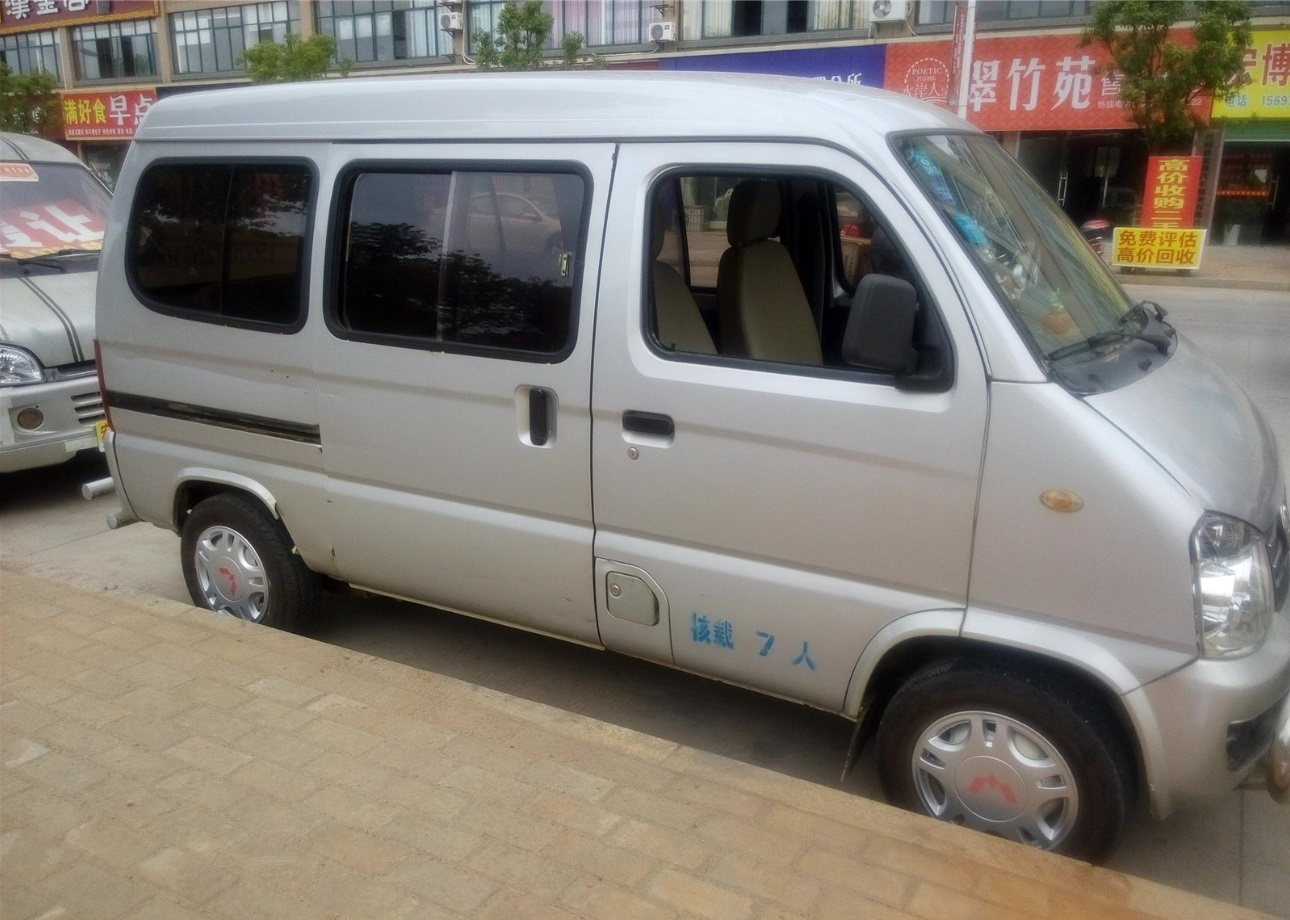minibus: (40, 89, 1290, 839)
